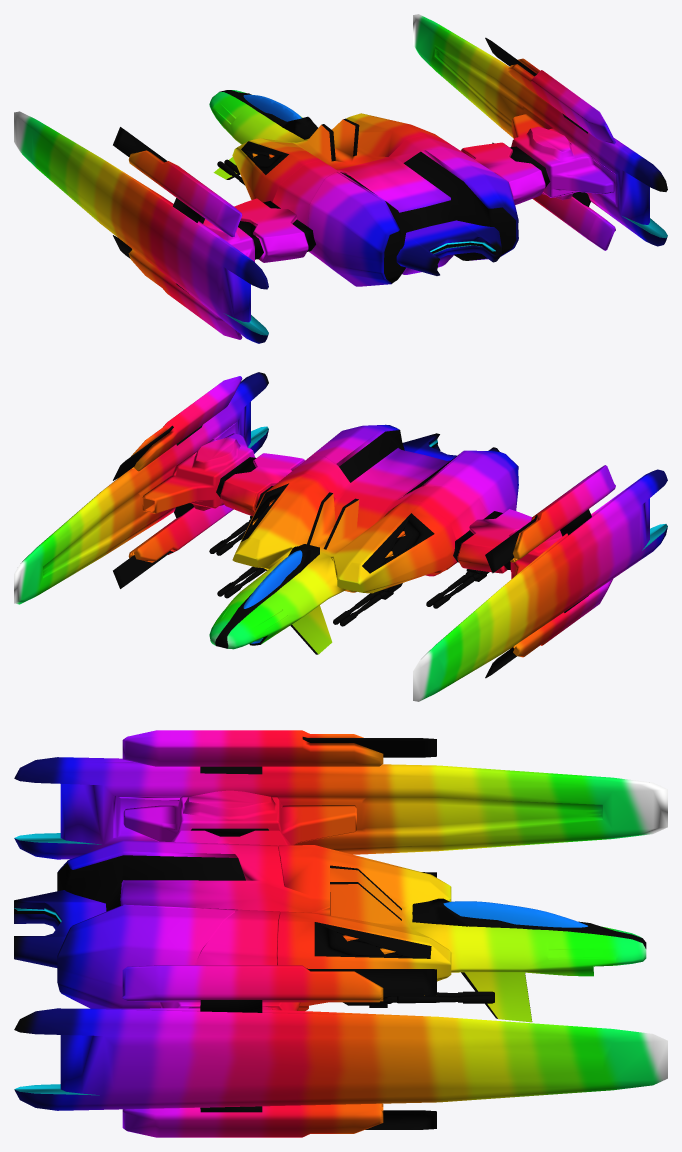
File: eliteship.fbx
3 views of the same model, one above another, from view 1: azimuth 30°, elevation 25°; view 2: azimuth 150°, elevation 25°; view 3: azimuth 270°, elevation 25° (orthographic). The views are drawn at different scales.
Parts seen in each view (by area): view 1: Spacefighter_Reference; view 2: Spacefighter_Reference; view 3: Spacefighter_Reference.
Part boxes in pixels (x1,y1,x2,y2): Spacefighter_Reference: (14,14,667,343); Spacefighter_Reference: (14,372,667,701); Spacefighter_Reference: (14,730,667,1137).
Bounding box in the file's own units: 8272 × 2499 × 8592.
